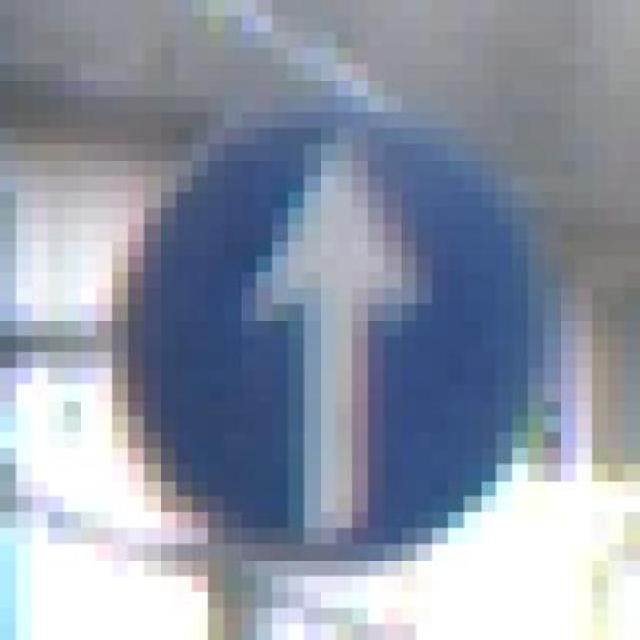Straight Ahead Only: (79, 79, 576, 576)
